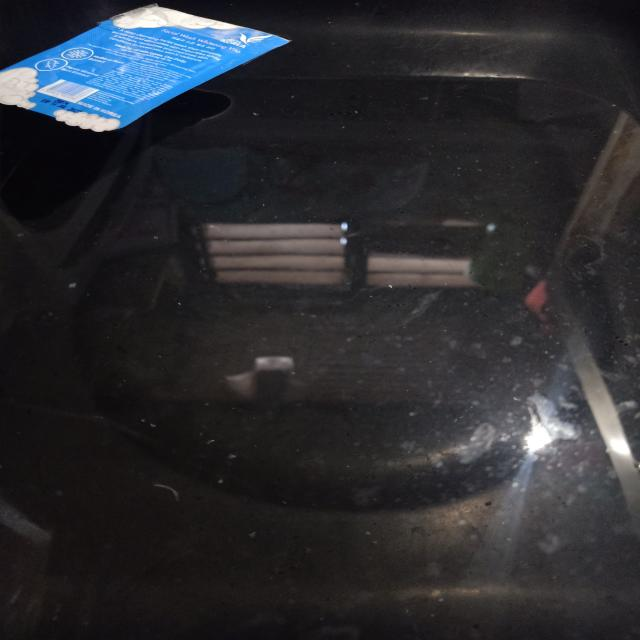Plastic Pouch: (0, 5, 289, 131)
